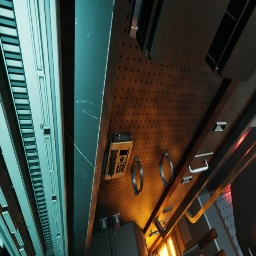EmergencyPhone ,: (101, 131, 133, 184)
